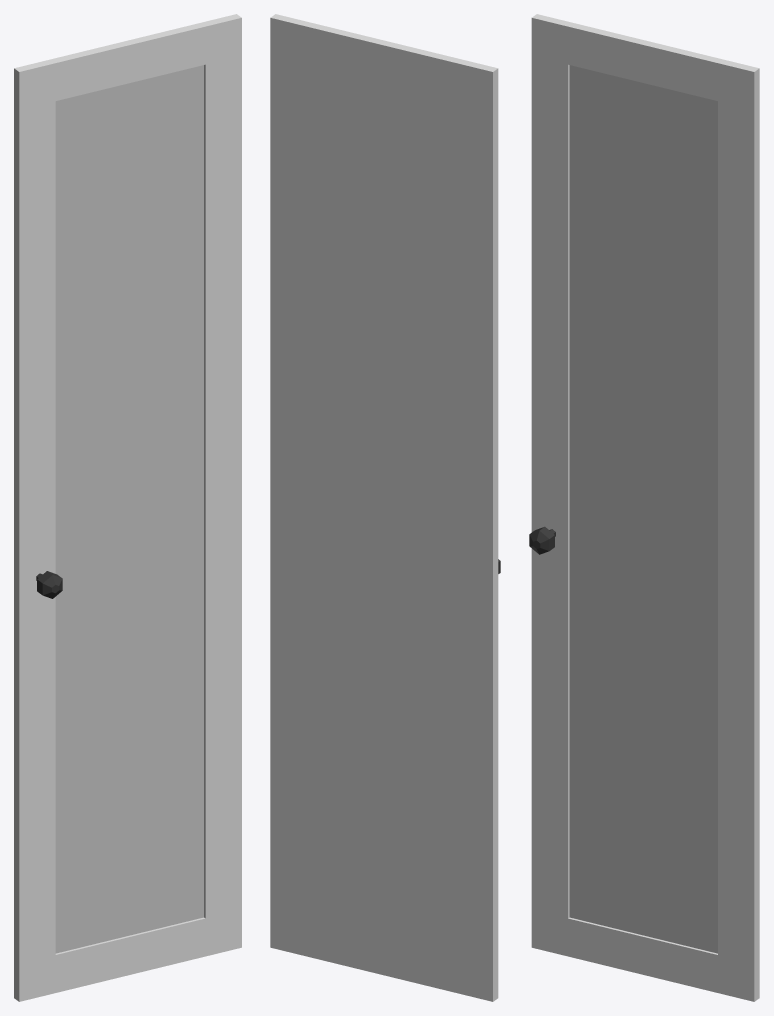
File: Wardrobe7_C1_02.fbx
The picture shows the model from 3 angles, left to right: view 1: azimuth 30°, elevation 25°; view 2: azimuth 150°, elevation 25°; view 3: azimuth 330°, elevation 25°; orthographic projection.
Visible parts, largest first — view 1: Wardrobe7_C1_02; view 2: Wardrobe7_C1_02; view 3: Wardrobe7_C1_02.
Boxes of the visible parts, x1,y1,x2,y2 form: Wardrobe7_C1_02: [14, 14, 241, 1001]; Wardrobe7_C1_02: [270, 14, 500, 1001]; Wardrobe7_C1_02: [529, 14, 759, 1001].
Bounding box in the file's own units: 50 × 200 × 8.1.
